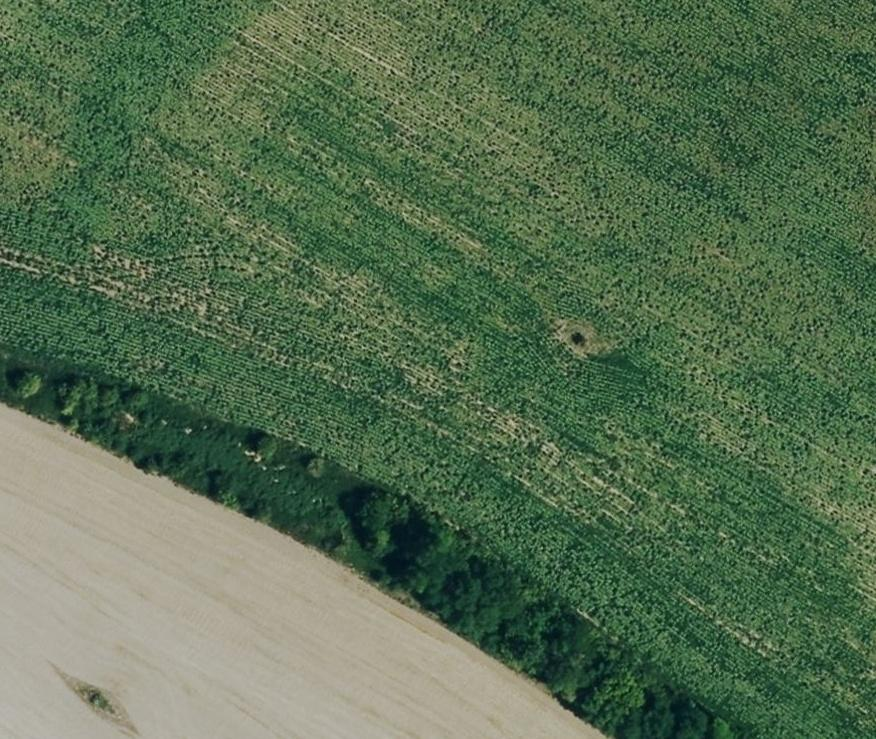field: (0, 3, 876, 735), (0, 405, 599, 737)
forest: (0, 348, 746, 737)
